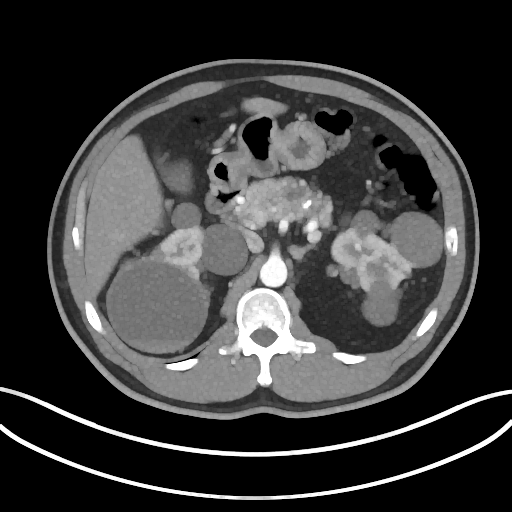Lesion: (103, 255, 213, 359)
